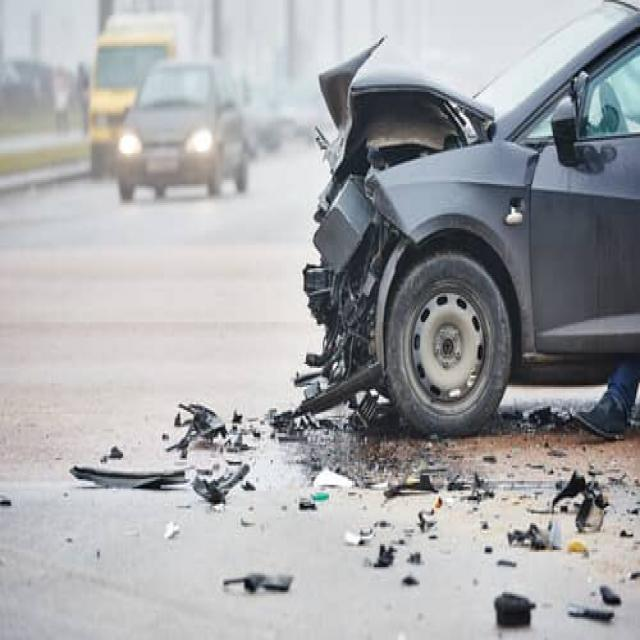accident: (272, 60, 574, 473)
